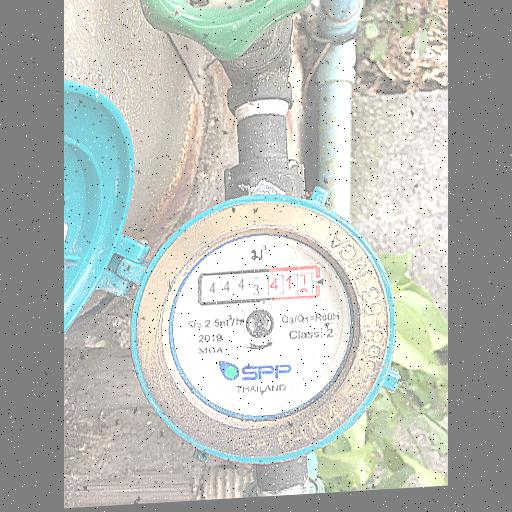1: (284, 275, 297, 295), (299, 274, 311, 294)
3: (251, 277, 263, 297)
4: (269, 276, 282, 296), (207, 280, 219, 299), (222, 279, 234, 298), (237, 277, 249, 296)
border_water_meter_number: (198, 265, 321, 306)
